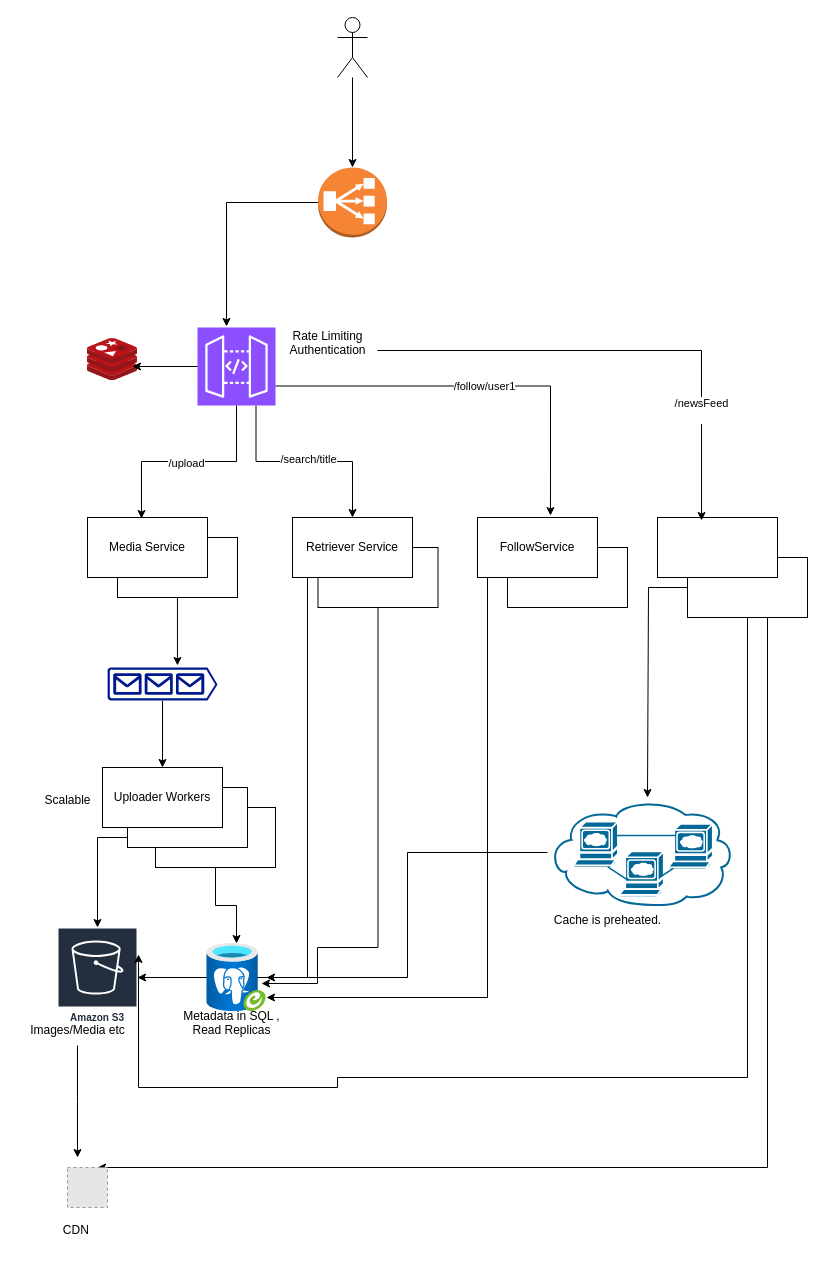
Image size: 825x1263. Some labels were removed from this diagram. Grey dashed boxes stand in for pictures. Here are the shapes that lost their labels. From the top down, the centre of each, then its label:
At (x=352, y=47): "Actor".
At (x=717, y=547): "News Feed Service".
